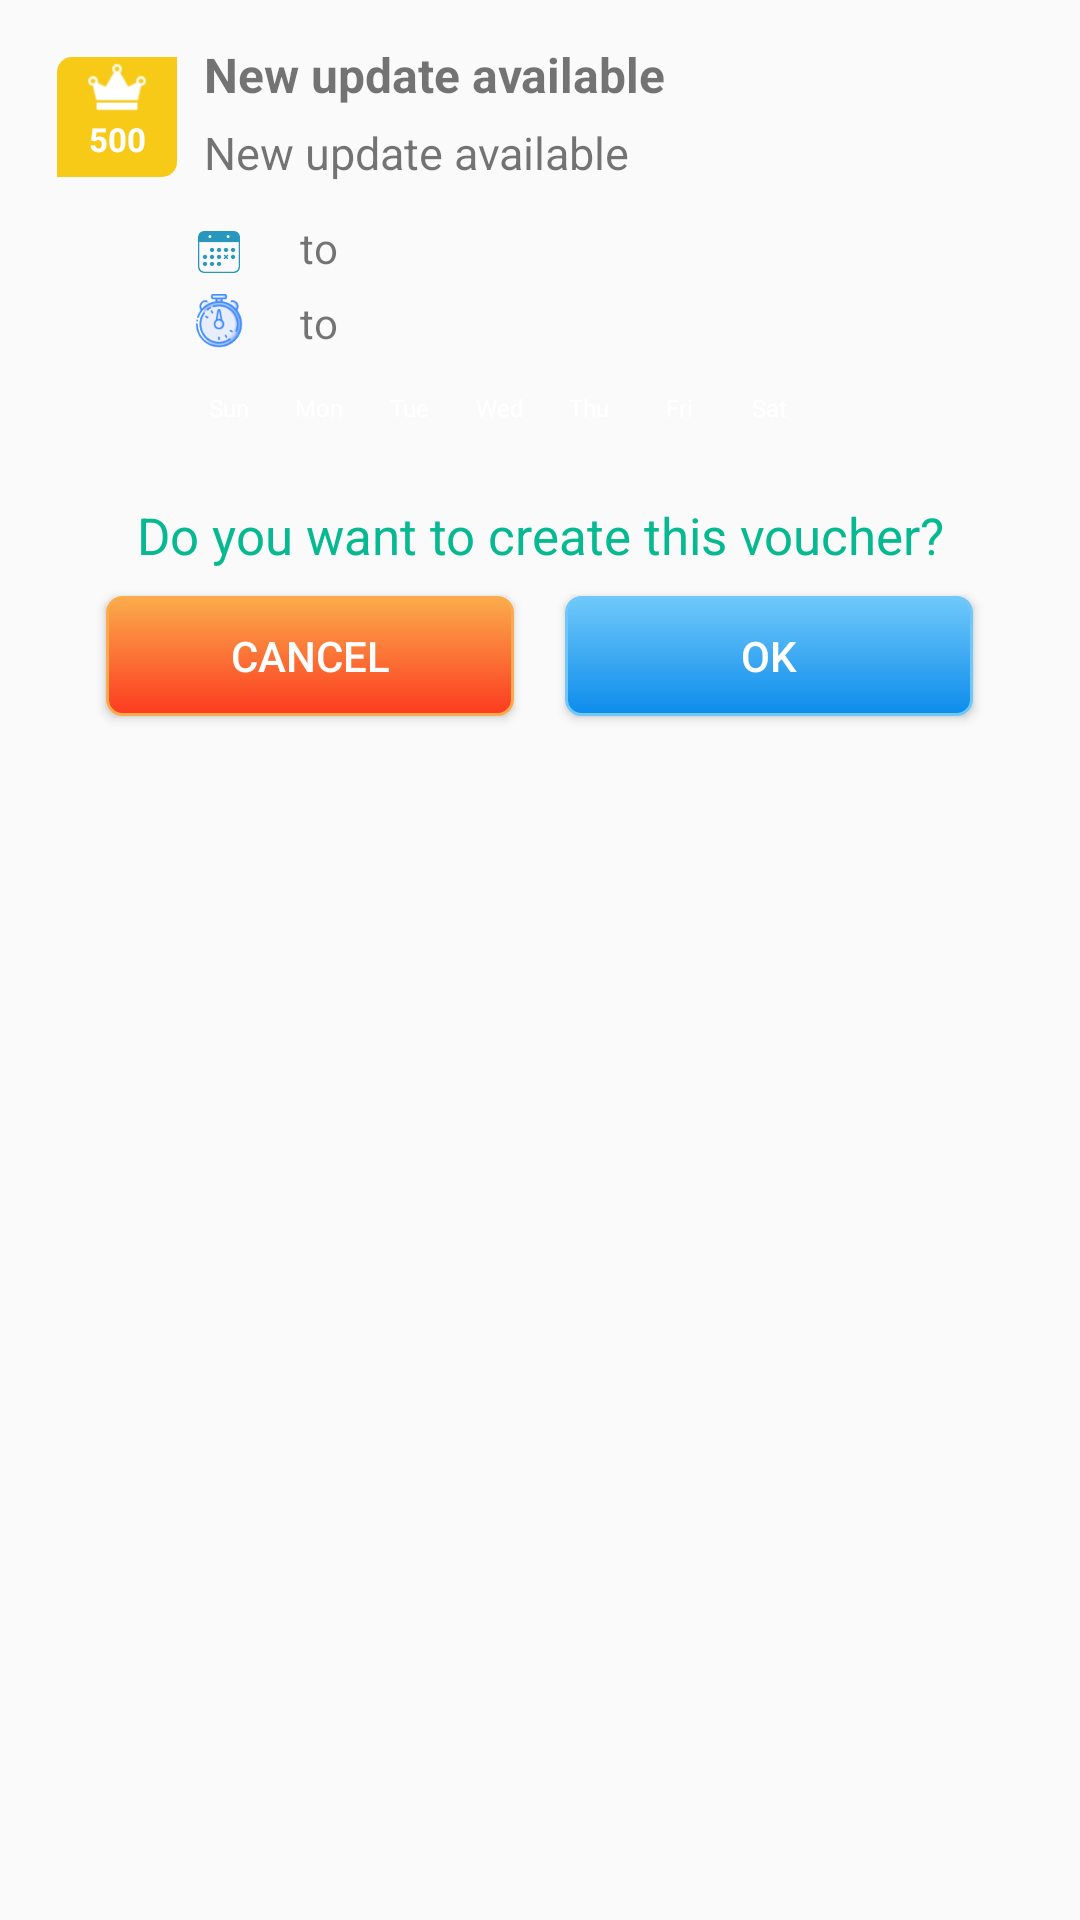

Icons on this 1080*1920 Android screen, each with the point to tap as (x,y):
calendar: (219,252)
time: (219,321)
